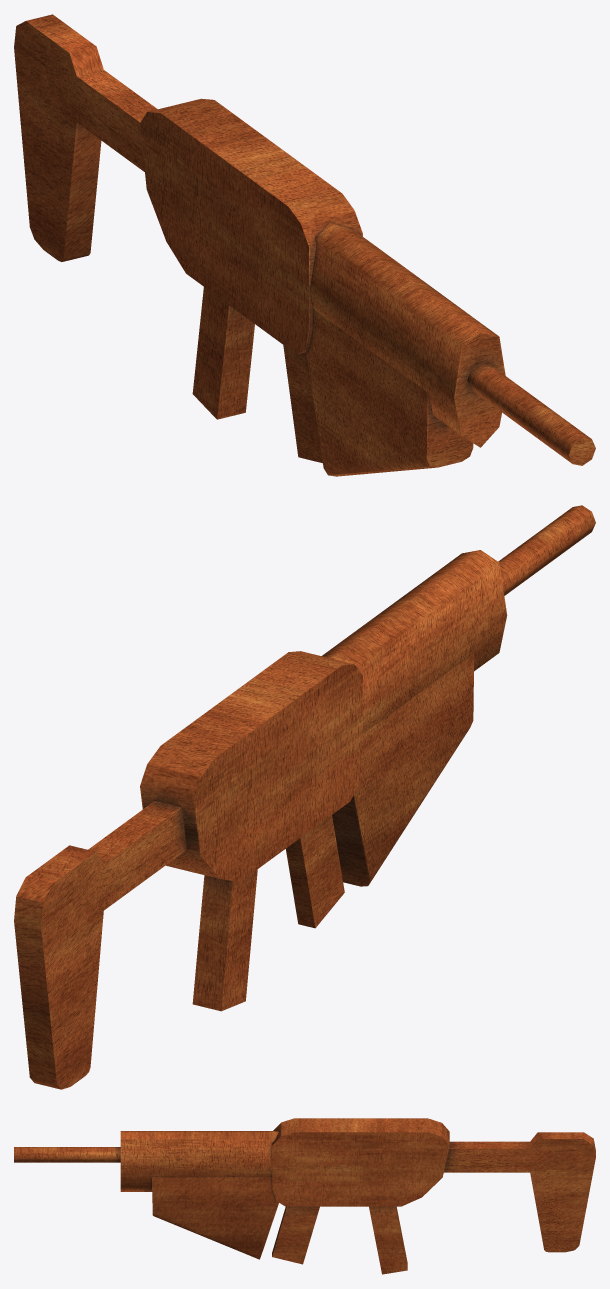
File: SM_AssaultRifleProp.fbx
3 renders of one model, top to bottom at view 1: azimuth 30°, elevation 25°; view 2: azimuth 150°, elevation 25°; view 3: azimuth 270°, elevation 25°, orthographic. The views are drawn at different scales.
Visible parts, largest first — view 1: AssaultRifle; view 2: AssaultRifle; view 3: AssaultRifle.
Part boxes in pixels (left/top/right/bottom): AssaultRifle: left=14, top=14, right=595, bottom=476; AssaultRifle: left=14, top=505, right=595, bottom=1089; AssaultRifle: left=14, top=1118, right=595, bottom=1274.
Size of the model in its own units: 5.02 by 24.66 by 89.34.
